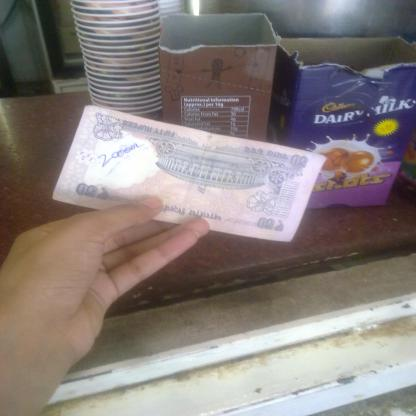Old50Back: (52, 105, 326, 242)
